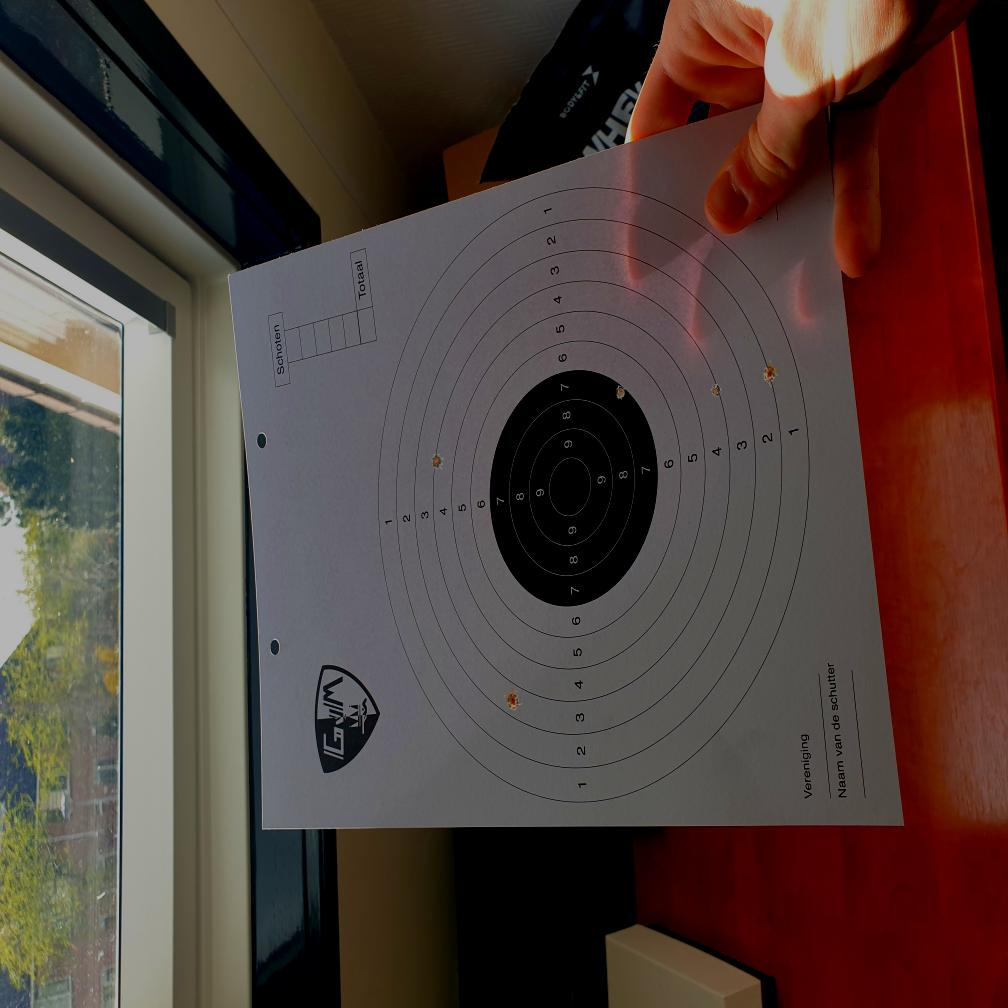2: (763, 360, 780, 388)
3: (504, 690, 522, 711)
4: (430, 453, 444, 471), (710, 383, 722, 399)
7: (614, 382, 628, 402)
Target: (378, 189, 810, 804)
black_contour: (490, 368, 658, 606)
